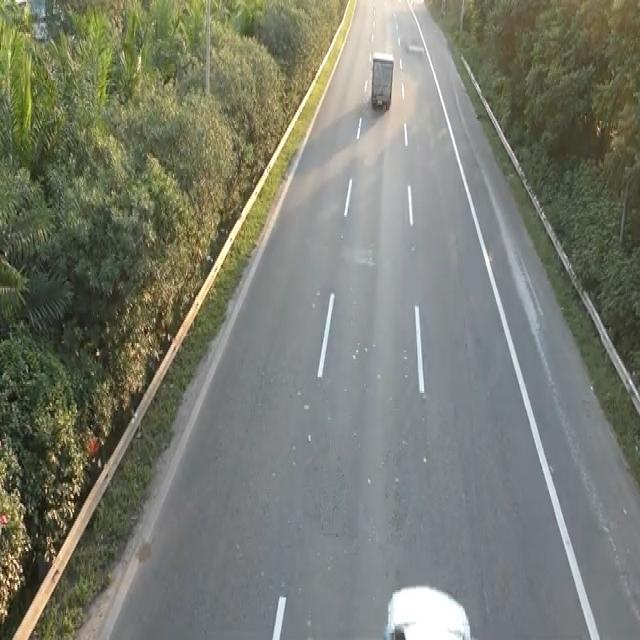minivan: (369, 48, 395, 112)
